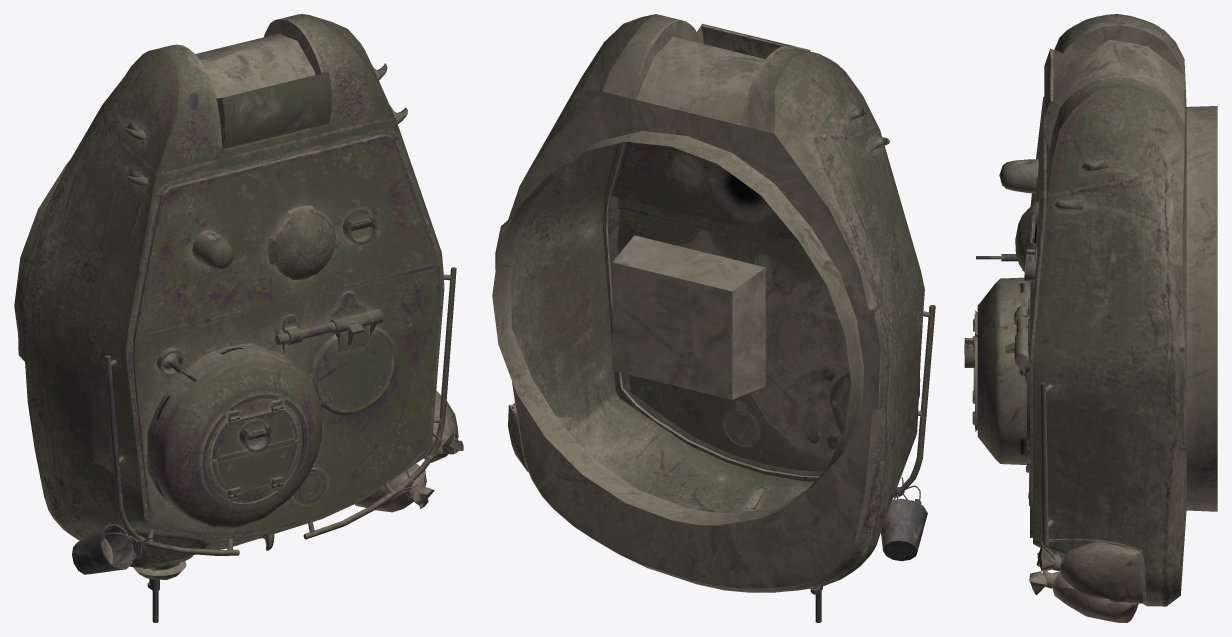
The model's file is Turret_01.glb.
The picture shows the model from 3 angles, left to right: view 1: azimuth 30°, elevation 25°; view 2: azimuth 150°, elevation 25°; view 3: azimuth 270°, elevation 25°; orthographic projection.
Visible parts, largest first — view 1: set_0_group_0; view 2: set_0_group_0; view 3: set_0_group_0.
Boxes of the visible parts, <box> form: set_0_group_0: <box>14,14,463,622</box>; set_0_group_0: <box>492,14,935,622</box>; set_0_group_0: <box>964,14,1217,622</box>.
Size of the model in its own units: 2.36 by 3.18 by 1.3.
Materials: 1 (1 with a texture image).
